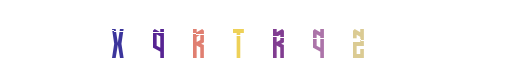2: (291, 0, 371, 80)
Q: (158, 0, 238, 80), (238, 0, 318, 80)
R: (198, 0, 278, 80), (214, 0, 294, 80)
T: (213, 0, 293, 80)
X: (97, 0, 177, 80)
